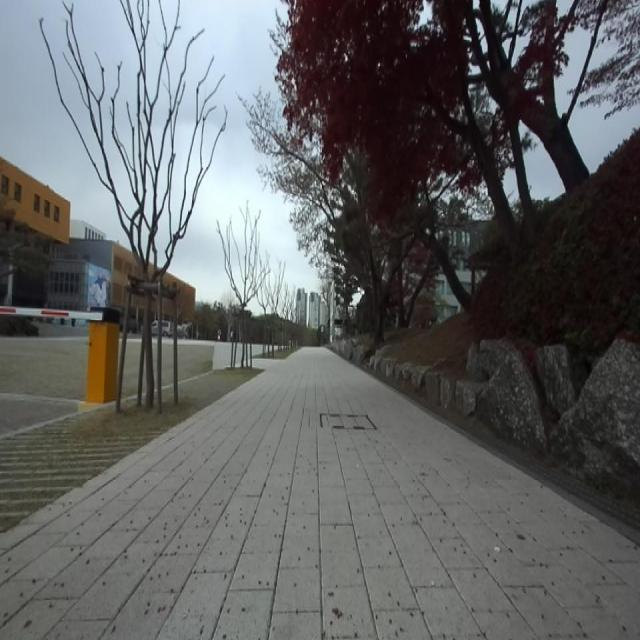sidewalk: (0, 348, 640, 639)
